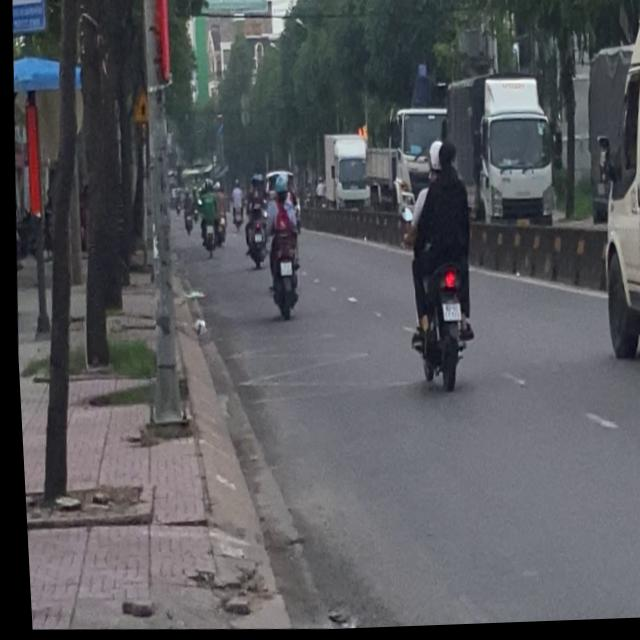helmet: (424, 138, 443, 176)
licenseplate: (393, 136, 482, 394)
motorcyclist: (434, 138, 458, 176)
nohelmet: (438, 301, 458, 321)
